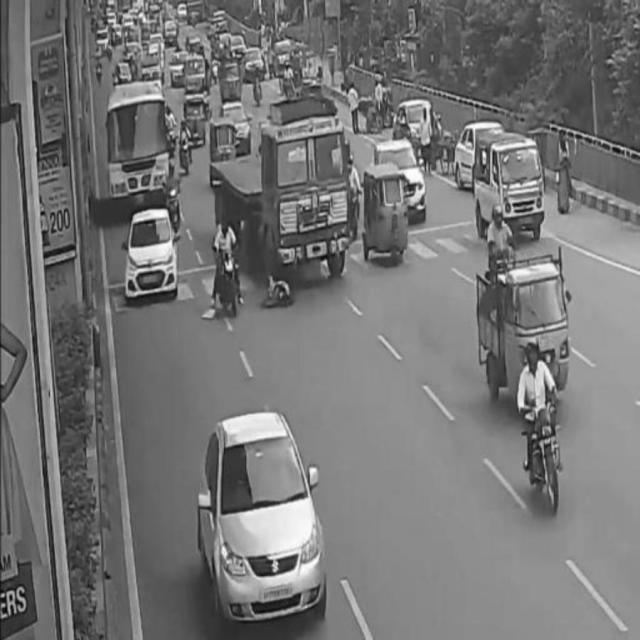person: (262, 263, 298, 310), (553, 130, 569, 218)
vehicle: (200, 390, 328, 621), (261, 123, 349, 285), (479, 266, 572, 396), (517, 334, 565, 511), (103, 93, 173, 203), (476, 140, 544, 241), (126, 211, 178, 299), (362, 169, 408, 267), (374, 140, 426, 218), (216, 220, 243, 321)
